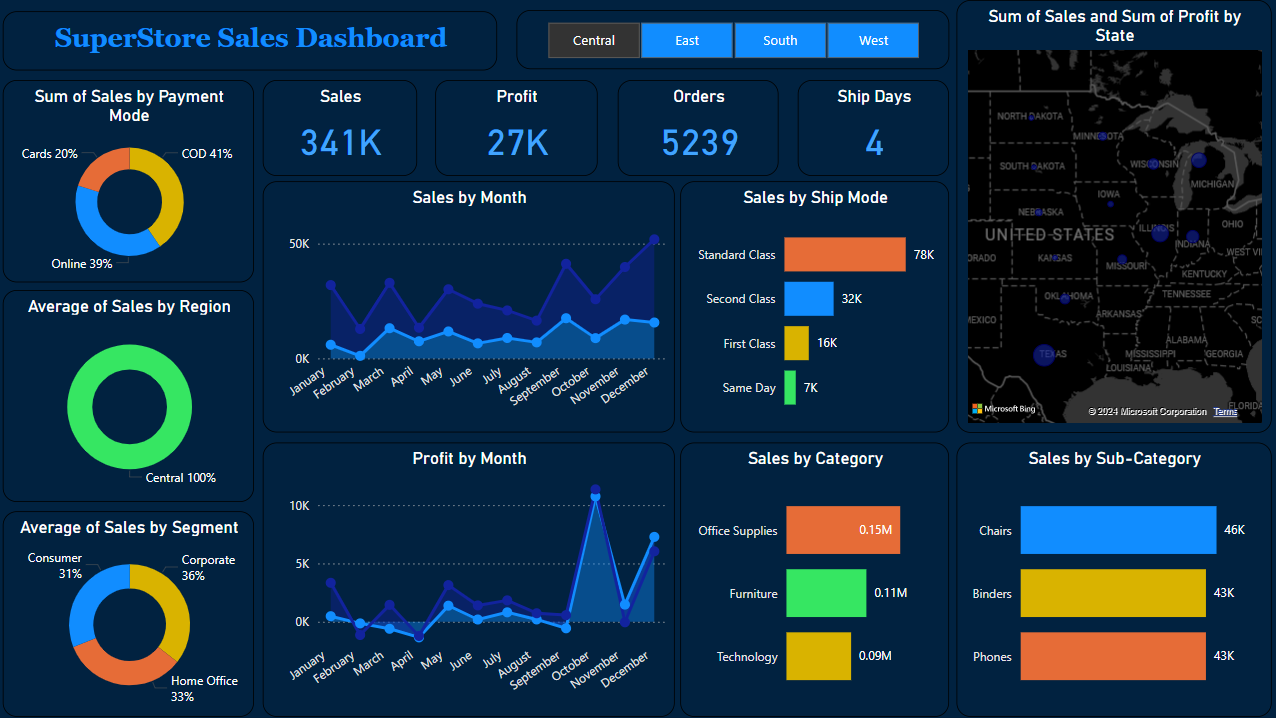

This screenshot's page, from the dashboard's own definition file:
{"tool":"powerbi","page":{"name":"Dashboard","canvas":[1280,720],"ordinal":0},"visuals":[{"type":"clusteredBarChart","title":"Sales by Category","fields":{"Category":["SuperStore_Sales_Dataset.Category"],"Y":["Sum(SuperStore_Sales_Dataset.Sales)"]},"box":[681.1,441.9,268.9,274.3],"z":0},{"type":"clusteredBarChart","title":"Sales by Sub-Category","fields":{"Category":["SuperStore_Sales_Dataset.Sub-Category"],"Y":["Sum(SuperStore_Sales_Dataset.Sales)"]},"box":[958.1,441.9,314.9,274.3],"z":1000},{"type":"clusteredBarChart","title":"Sales by Ship Mode","fields":{"Category":["SuperStore_Sales_Dataset.Ship Mode"],"Y":["Sum(SuperStore_Sales_Dataset.Sales)"]},"box":[681.1,181.1,268.9,251.4],"z":2000},{"type":"stackedAreaChart","title":"Sales by Month","fields":{"Y":["Sum(SuperStore_Sales_Dataset.Sales)"],"Category":["SuperStore_Sales_Dataset.Order Date.Variation.Date Hierarchy.Month","SuperStore_Sales_Dataset.Order Date.Variation.Date Hierarchy.Day"],"Series":["SuperStore_Sales_Dataset.Order Date.Variation.Date Hierarchy.Year"]},"box":[263.5,181.1,412.2,251.4],"z":3000},{"type":"stackedAreaChart","title":"Profit by Month","fields":{"Category":["SuperStore_Sales_Dataset.Order Date.Variation.Date Hierarchy.Month","SuperStore_Sales_Dataset.Order Date.Variation.Date Hierarchy.Day"],"Series":["SuperStore_Sales_Dataset.Order Date.Variation.Date Hierarchy.Year"],"Y":["Sum(SuperStore_Sales_Dataset.Profit)"]},"box":[263.5,441.9,412.2,274.3],"z":4000},{"type":"map","fields":{"Category":["SuperStore_Sales_Dataset.State"],"Size":["Sum(SuperStore_Sales_Dataset.Sales)"]},"box":[958.1,0,314.9,432.4],"z":5000},{"type":"textbox","box":[4.1,10.8,494.6,59.5],"z":6000},{"type":"donutChart","fields":{"Category":["SuperStore_Sales_Dataset.Segment"],"Y":["Avg(SuperStore_Sales_Dataset.Sales)"]},"box":[4.1,510.8,251.4,205.4],"z":7000},{"type":"donutChart","fields":{"Category":["SuperStore_Sales_Dataset.Payment Mode"],"Y":["Sum(SuperStore_Sales_Dataset.Sales)"]},"box":[4.1,79.7,251.4,202.7],"z":8000},{"type":"donutChart","fields":{"Y":["Avg(SuperStore_Sales_Dataset.Sales)"],"Category":["SuperStore_Sales_Dataset.Region"]},"box":[4.1,290.5,251.4,212.2],"z":9000},{"type":"card","title":"Sales","fields":{"Values":["Sum(SuperStore_Sales_Dataset.Sales)"]},"box":[263.5,79.7,154.1,95.9],"z":10000},{"type":"card","title":"Profit","fields":{"Values":["Sum(SuperStore_Sales_Dataset.Profit)"]},"box":[436.5,79.7,162.2,95.9],"z":11000},{"type":"card","title":"Orders","fields":{"Values":["Sum(SuperStore_Sales_Dataset.Quantity)"]},"box":[618.9,79.7,160.8,95.9],"z":12000},{"type":"card","title":"Ship Days","fields":{"Values":["Avg(SuperStore_Sales_Dataset.AvgDelivery)"]},"box":[798.6,79.7,151.4,95.9],"z":13000},{"type":"slicer","fields":{"Values":["SuperStore_Sales_Dataset.Region"]},"box":[517.4,10.5,432.6,59.3],"z":14000}]}

Visuals, with their boxes in screenshot pixels (x1, y1, x2, y2), scaled from the page's 1280x720 canvas onto the 1276x718 screenshot:
"Sales by Category" clusteredBarChart: {"left": 679, "top": 441, "right": 947, "bottom": 714}
"Sales by Sub-Category" clusteredBarChart: {"left": 955, "top": 441, "right": 1269, "bottom": 714}
"Sales by Ship Mode" clusteredBarChart: {"left": 679, "top": 181, "right": 947, "bottom": 431}
"Sales by Month" stackedAreaChart: {"left": 263, "top": 181, "right": 674, "bottom": 431}
"Profit by Month" stackedAreaChart: {"left": 263, "top": 441, "right": 674, "bottom": 714}
map - SuperStore_Sales_Dataset.State x Sum(SuperStore_Sales_Dataset.Sales): {"left": 955, "top": 0, "right": 1269, "bottom": 431}
textbox: {"left": 4, "top": 11, "right": 497, "bottom": 70}
donutChart - SuperStore_Sales_Dataset.Segment x Avg(SuperStore_Sales_Dataset.Sales): {"left": 4, "top": 509, "right": 255, "bottom": 714}
donutChart - SuperStore_Sales_Dataset.Payment Mode x Sum(SuperStore_Sales_Dataset.Sales): {"left": 4, "top": 79, "right": 255, "bottom": 282}
donutChart - Avg(SuperStore_Sales_Dataset.Sales) x SuperStore_Sales_Dataset.Region: {"left": 4, "top": 290, "right": 255, "bottom": 501}
"Sales" card: {"left": 263, "top": 79, "right": 416, "bottom": 175}
"Profit" card: {"left": 435, "top": 79, "right": 597, "bottom": 175}
"Orders" card: {"left": 617, "top": 79, "right": 777, "bottom": 175}
"Ship Days" card: {"left": 796, "top": 79, "right": 947, "bottom": 175}
slicer - SuperStore_Sales_Dataset.Region: {"left": 516, "top": 10, "right": 947, "bottom": 70}
